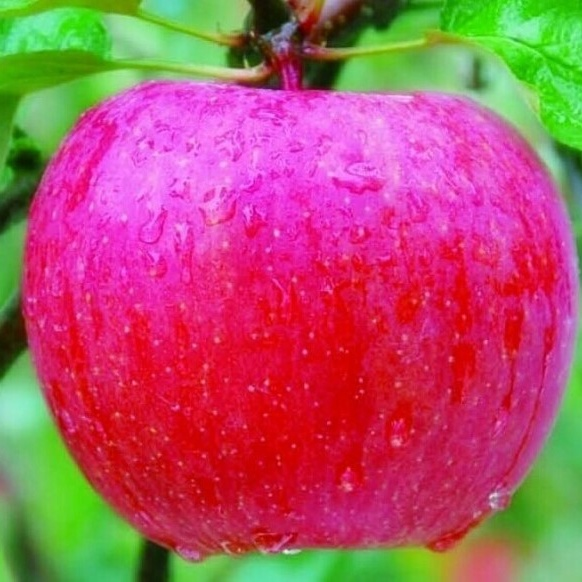apple: (22, 79, 582, 561)
